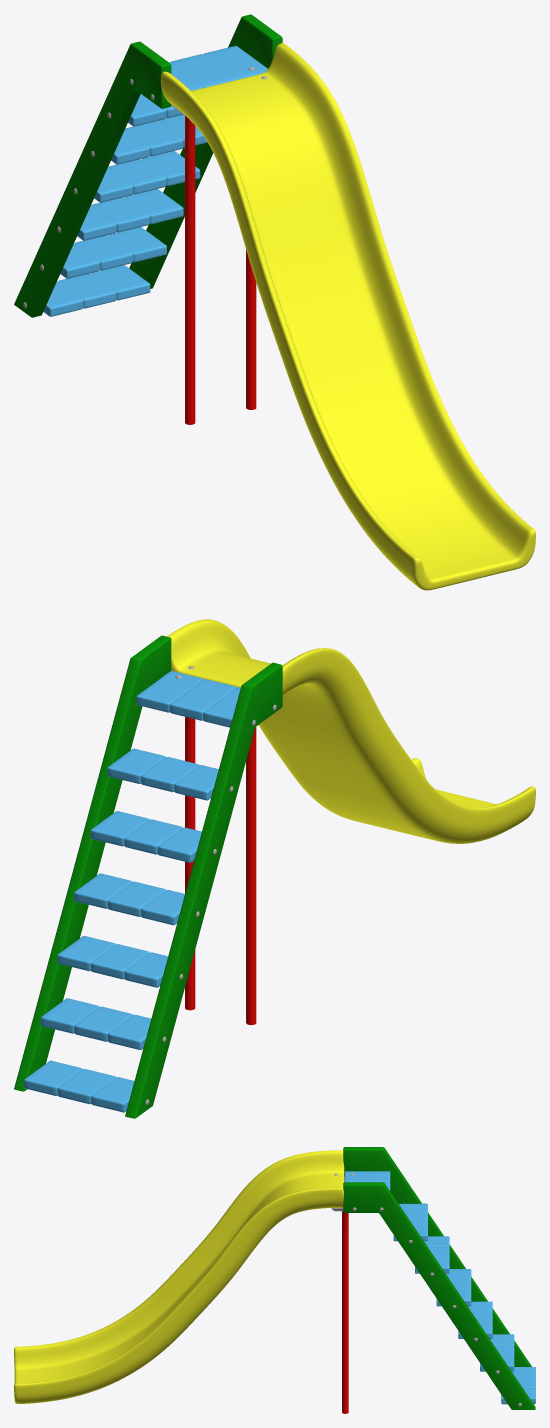
Rendered from Slide.gltf.
The picture shows the model from 3 angles, top to bottom: view 1: azimuth 30°, elevation 25°; view 2: azimuth 150°, elevation 25°; view 3: azimuth 270°, elevation 25°; orthographic projection. The views are drawn at different scales.
Parts seen in each view (by area): view 1: Slide; view 2: Slide; view 3: Slide.
Boxes of the visible parts, bbox=[...] form: Slide: bbox=[14, 14, 535, 590]; Slide: bbox=[14, 619, 535, 1118]; Slide: bbox=[14, 1147, 535, 1413].
Size of the model in its own units: 0.6492 by 1.82 by 3.63.
